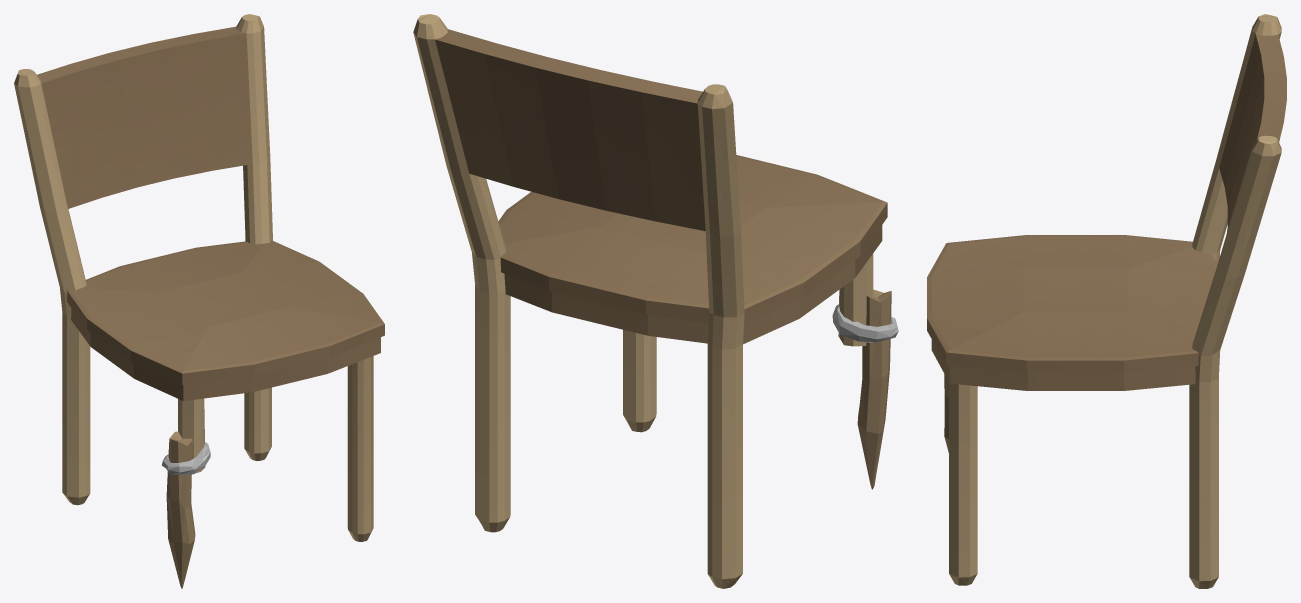
Rendered from chair_repaired_1.dae.
The picture shows the model from 3 angles, left to right: view 1: azimuth 30°, elevation 25°; view 2: azimuth 150°, elevation 25°; view 3: azimuth 270°, elevation 25°; orthographic projection. The views are drawn at different scales.
Visible parts, largest first — view 1: chair_repaired_1; view 2: chair_repaired_1; view 3: chair_repaired_1.
Boxes of the visible parts, x1=… form: chair_repaired_1: x1=14, y1=14, x2=384, y2=588; chair_repaired_1: x1=413, y1=14, x2=898, y2=588; chair_repaired_1: x1=927, y1=14, x2=1286, y2=588.
Bounding box in the file's own units: 0.4699 × 0.5374 × 0.7643.
